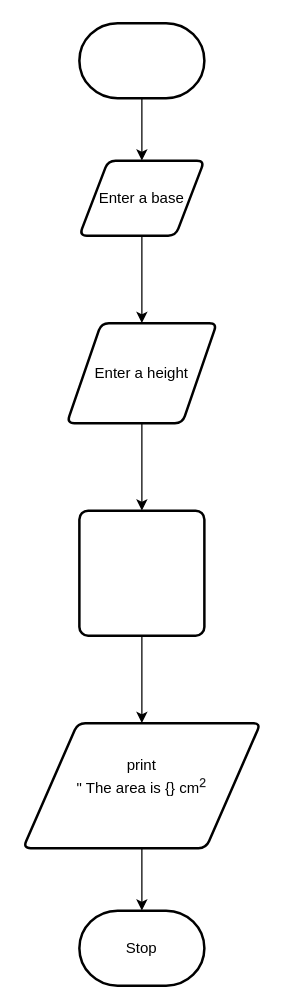
Some shapes in this 283 by 1008 pixel diagram are drawn without their labels. Each missing label, with the centre of its shape:
"area = base *height / 2" belongs at [141,572].
"Start" belongs at [141,60].
